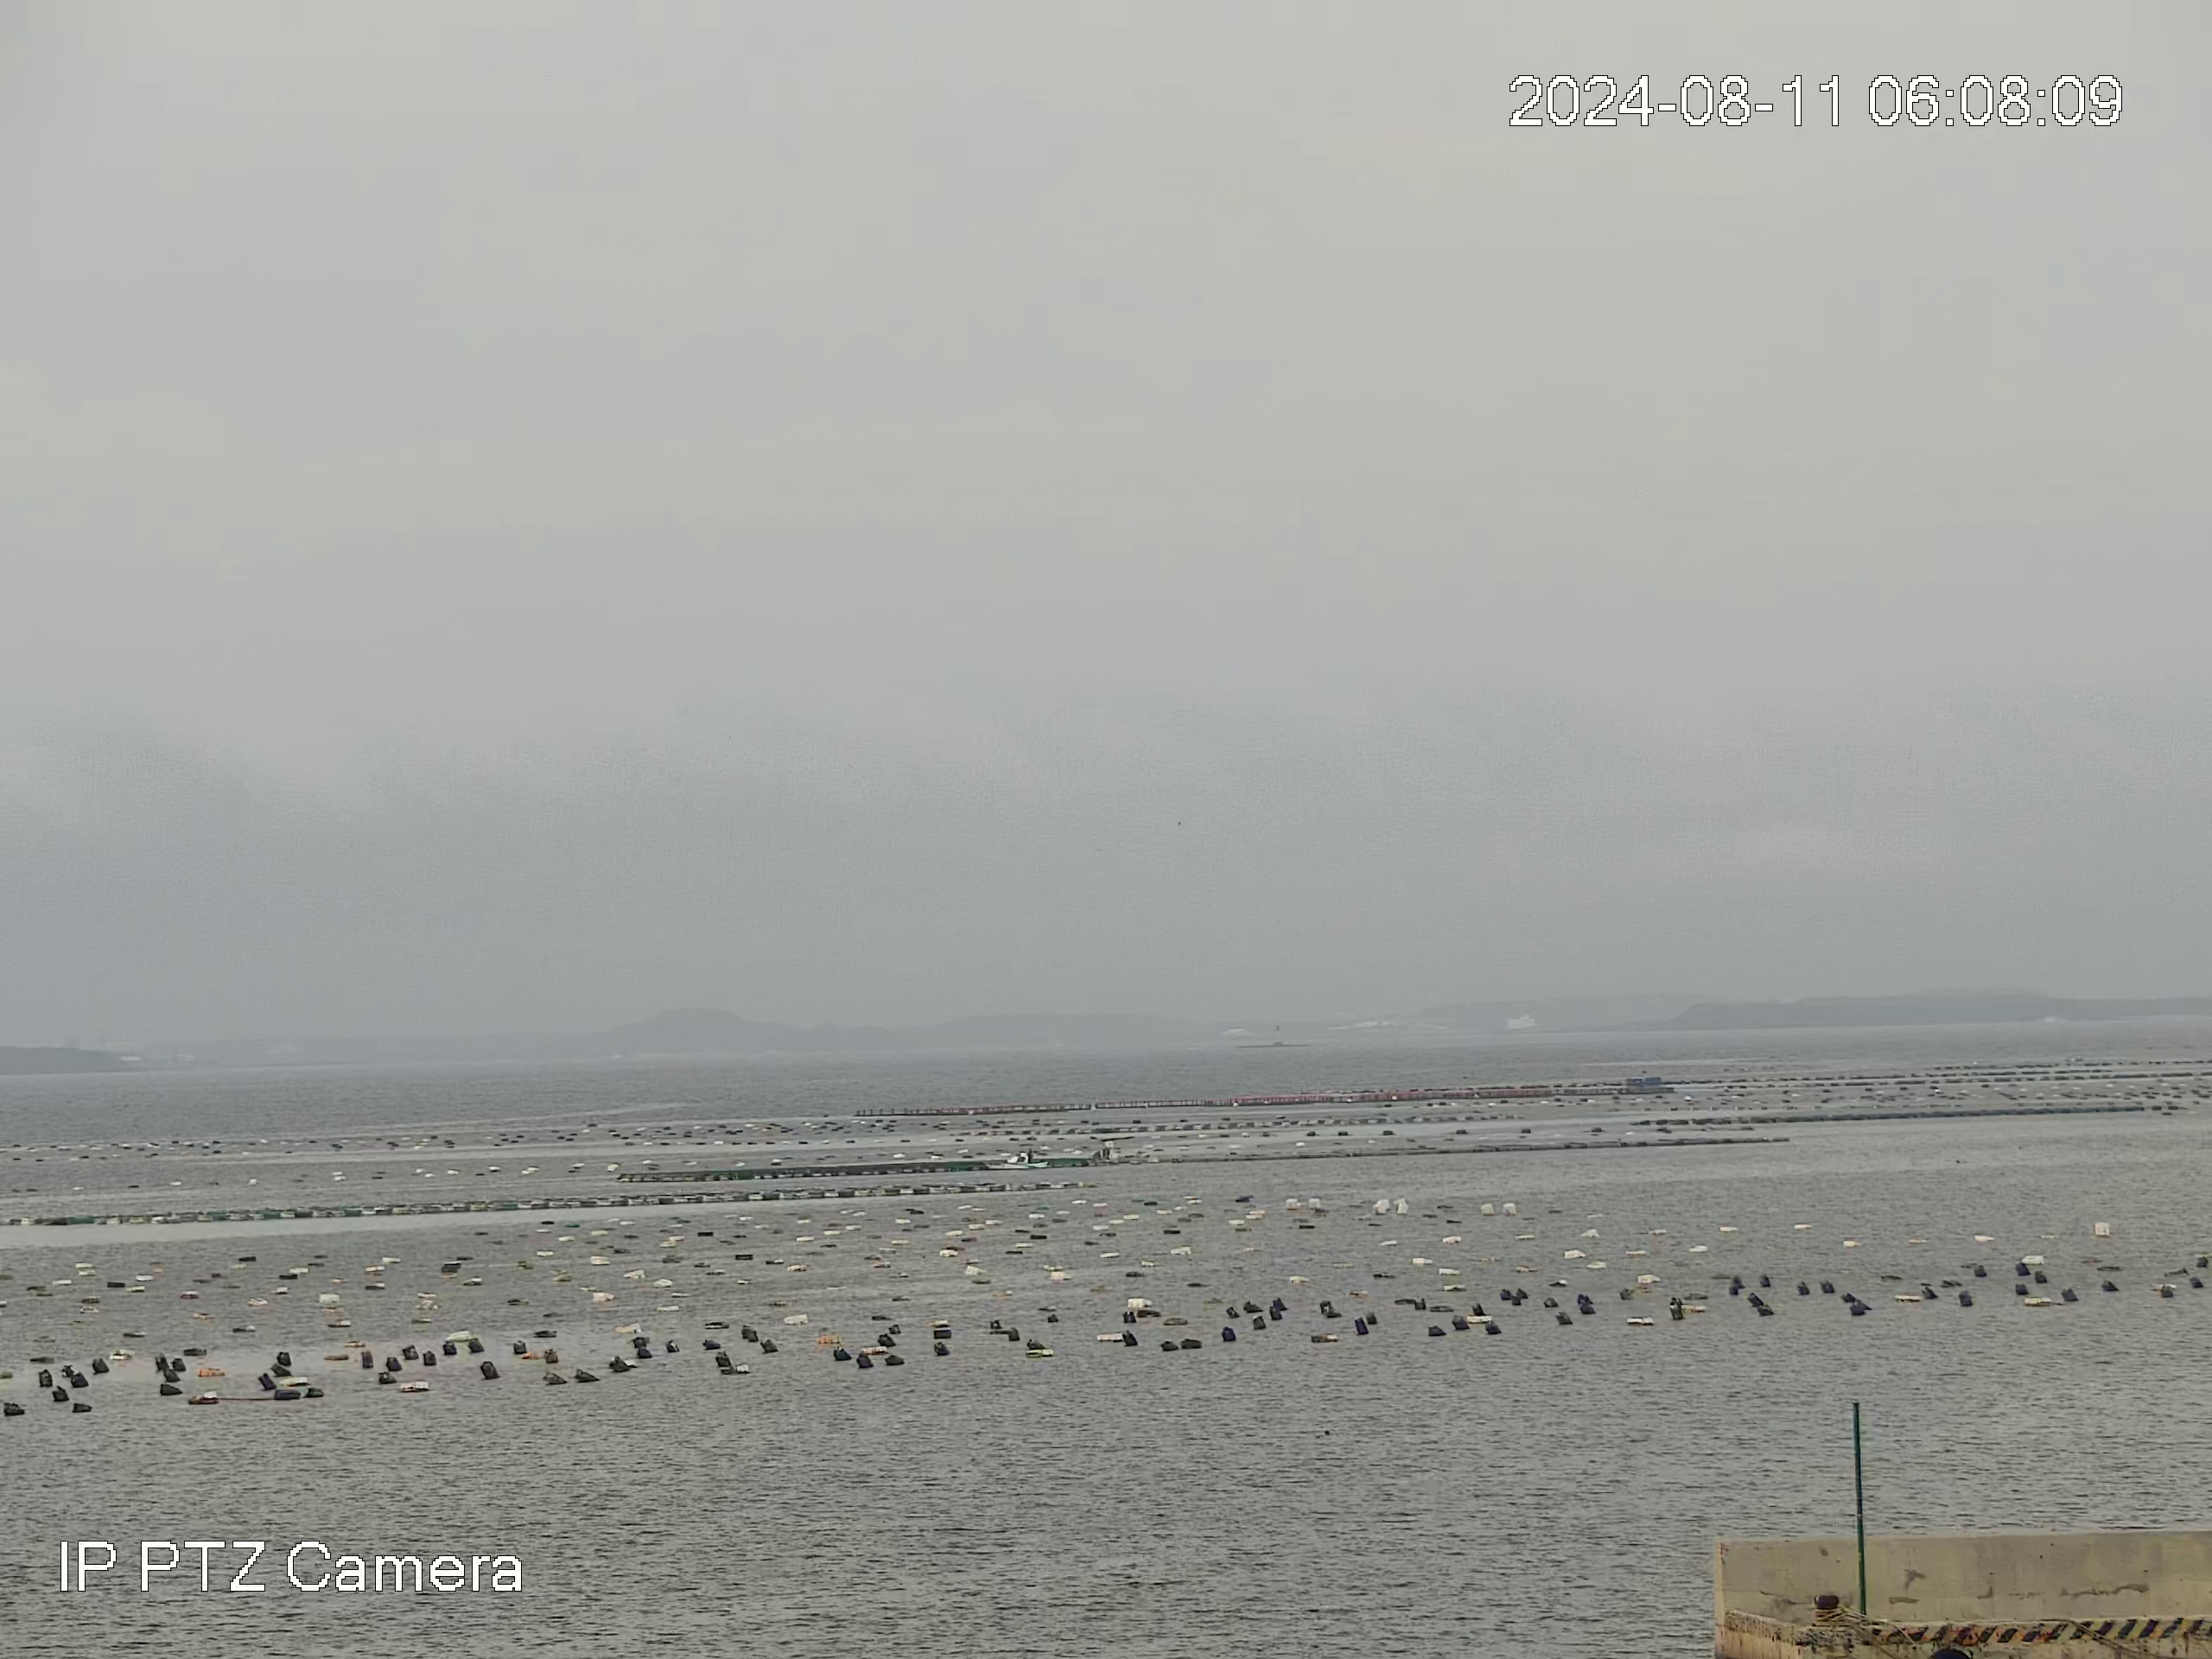boat: (979, 1148, 1050, 1173)
